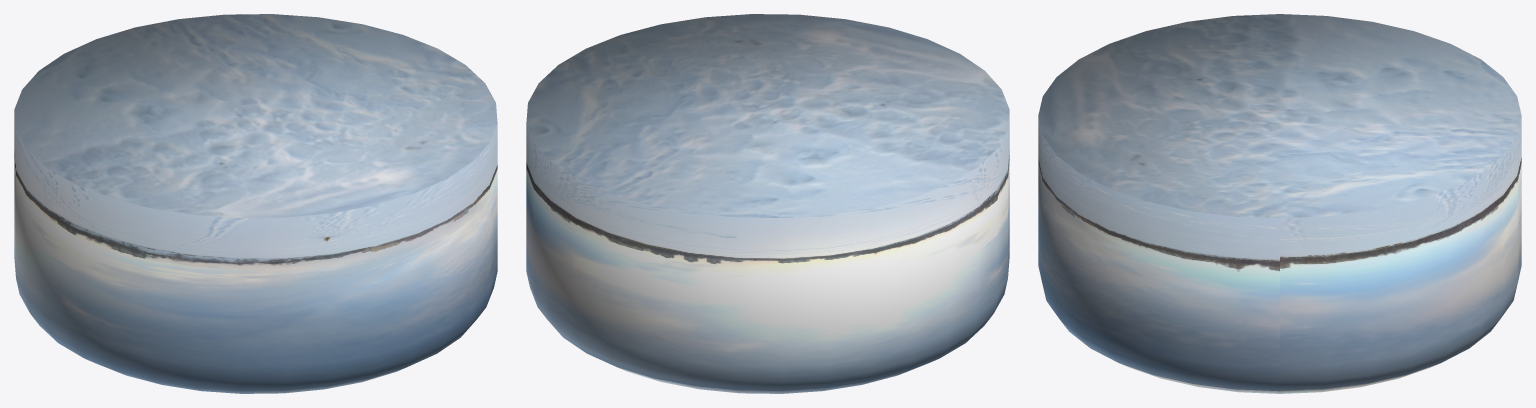
File: skybox.obj
The picture shows the model from 3 angles, left to right: view 1: azimuth 30°, elevation 25°; view 2: azimuth 150°, elevation 25°; view 3: azimuth 270°, elevation 25°; orthographic projection.
Parts seen in each view (by area): view 1: Cylinder; view 2: Cylinder; view 3: Cylinder.
Boxes of the visible parts, x1,y1,x2,y2 form: Cylinder: [14, 14, 497, 393]; Cylinder: [526, 14, 1009, 393]; Cylinder: [1038, 14, 1521, 393].
Size of the model in its own units: 11.21 by 4.89 by 11.21.
Materials: 1 (1 with a texture image).
